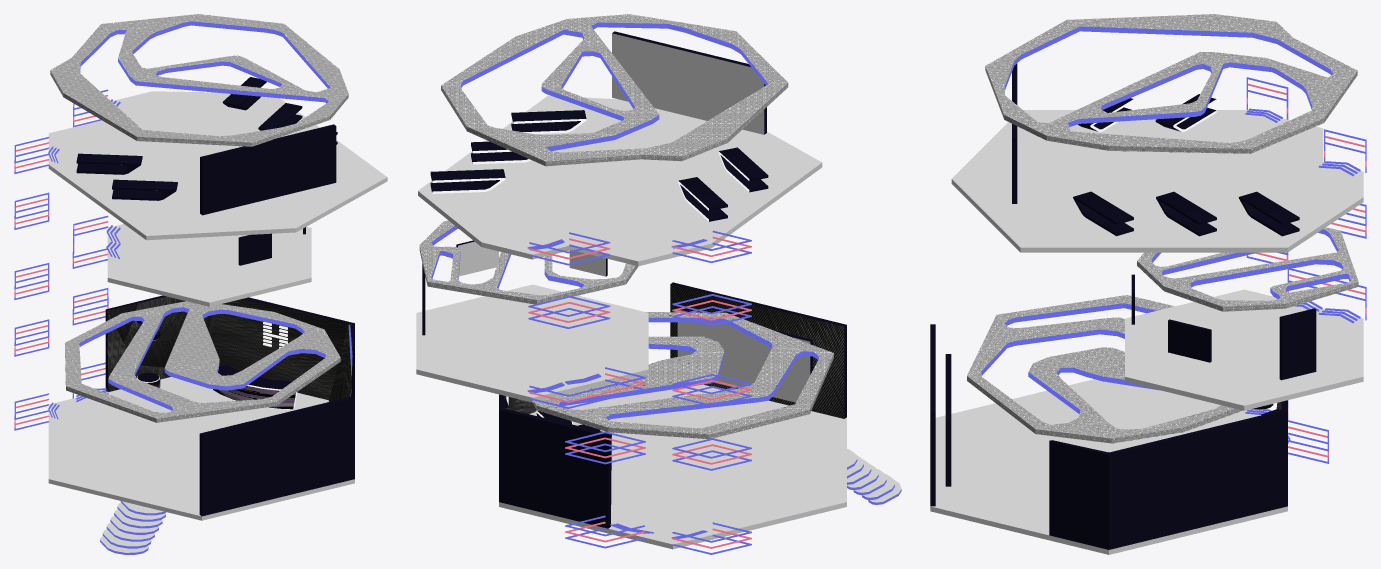
Rendered from hww_base_10_alternateV3.glb.
3 views of the same model, side by side, from view 1: azimuth 30°, elevation 25°; view 2: azimuth 150°, elevation 25°; view 3: azimuth 270°, elevation 25° (orthographic). The views are drawn at different scales.
Parts seen in each view (by area): view 1: lobby_base, ceiling, walls_back, walls_front, screen_frames, lobby_cove_lights, props_surface, lift_neon_purple, lift_neon_pink, steps_neon_purple, props_table, lift_ramp_lights; view 2: lobby_base, ceiling, walls_back, expo_video_display, lift_neon_purple, lobby_cove_lights, props_surface, walls_front, lobby_video_display, lift_neon_pink, expo_table_glowy, screen_frames (+3 smaller); view 3: lobby_base, ceiling, walls_back, lobby_cove_lights, screen_frames, props_surface, lift_neon_purple, lift_ramp_lights, lift_neon_pink.
Part boxes in pixels (x1,y1,x2,y2): lobby_base: [48, 91, 387, 552]; ceiling: [50, 14, 348, 422]; walls_back: [105, 295, 354, 516]; walls_front: [107, 296, 352, 401]; screen_frames: [200, 124, 336, 265]; lobby_cove_lights: [77, 21, 352, 410]; props_surface: [76, 77, 337, 389]; lift_neon_purple: [14, 89, 108, 430]; lift_neon_pink: [14, 95, 108, 425]; steps_neon_purple: [100, 501, 166, 554]; props_table: [213, 386, 295, 409]; lift_ramp_lights: [48, 99, 120, 419]; lobby_base: [416, 95, 901, 549]; ceiling: [419, 14, 833, 439]; walls_back: [499, 282, 846, 528]; expo_video_display: [612, 33, 764, 134]; lift_neon_purple: [528, 230, 751, 554]; lobby_cove_lights: [431, 22, 819, 420]; props_surface: [430, 110, 768, 430]; walls_front: [504, 284, 844, 418]; lobby_video_display: [677, 310, 810, 402]; lift_neon_pink: [528, 236, 751, 548]; expo_table_glowy: [432, 119, 749, 221]; screen_frames: [422, 31, 812, 374]; lobby_base: [930, 110, 1363, 554]; ceiling: [967, 14, 1358, 443]; walls_back: [930, 324, 1287, 549]; lobby_cove_lights: [981, 26, 1350, 452]; screen_frames: [945, 63, 1316, 486]; props_surface: [1073, 94, 1299, 236]; lift_neon_purple: [1246, 77, 1366, 463]; lift_ramp_lights: [1245, 108, 1360, 443]; lift_neon_pink: [1246, 83, 1366, 457].
Size of what is drawn, in the model's own units: 15.71 by 17.47 by 15.86.
7 materials, 3 textured.
